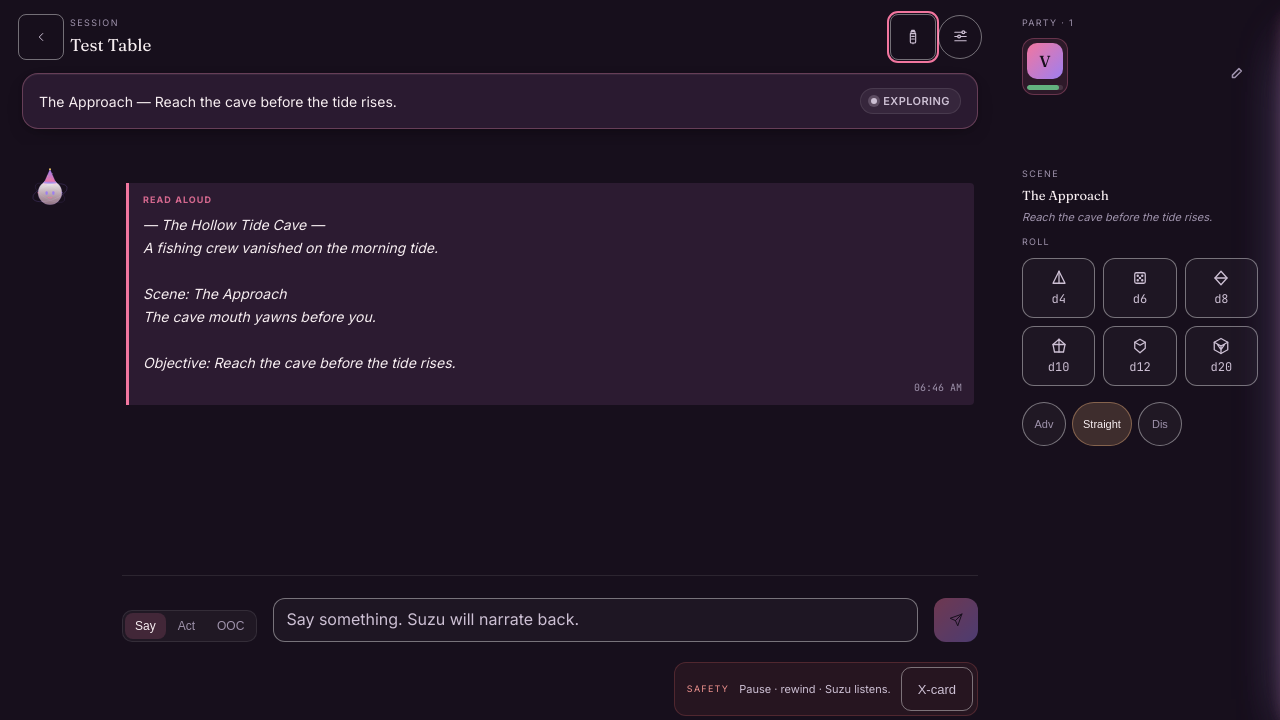
Test: QA break-it — journalEvents dedup does not cover within-tick duplicates › FINDING: an event with no seq at all is unconditionally "fresh" every tick — journalEvents duplicates it visibly, and the redundant-fetch observability tell nev
The image size is (1280, 720).
Expected: the text "Test Table" is shown, [70,32,151,57]
Step 1. Click the button named "Open journal" → [913, 36], box [890,14,936,60]
Wait 12000 ms
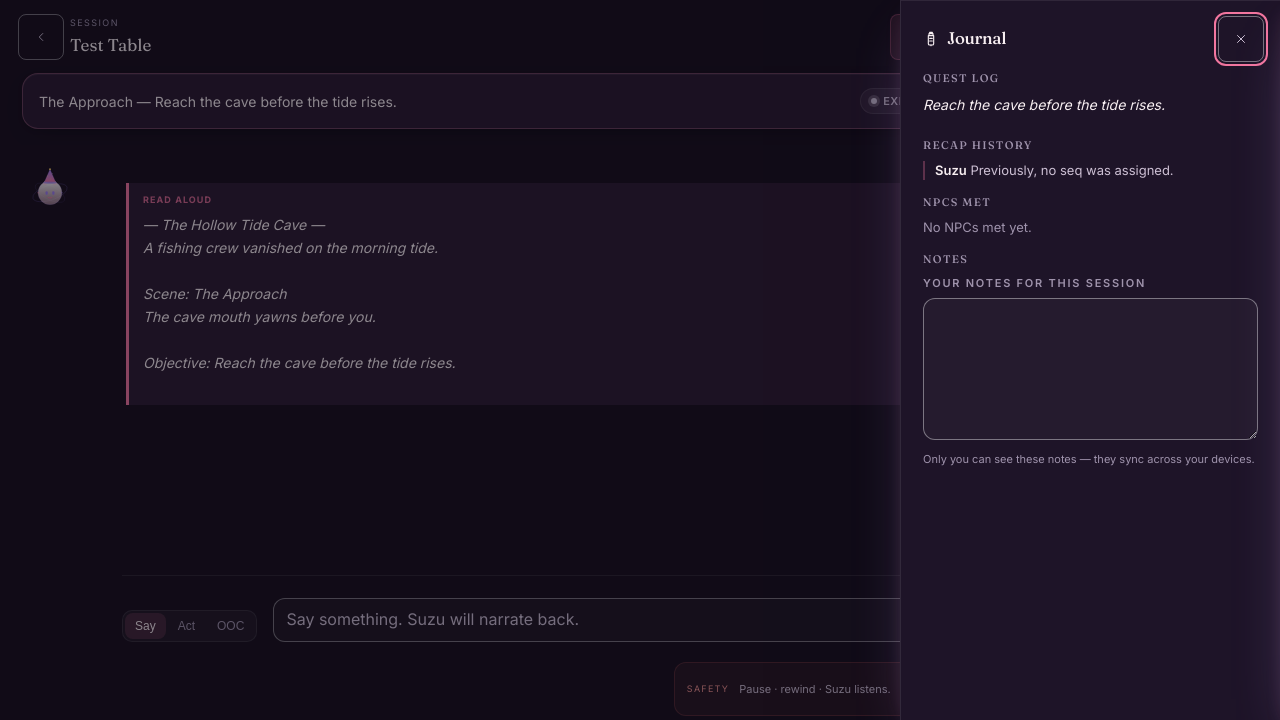
Now the number of list items "Previously, no seq was assigned." is 1, box [923,160,1258,180]
